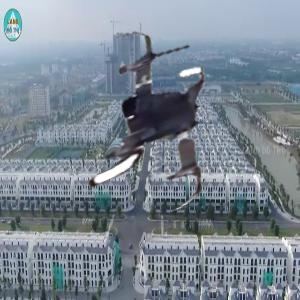drone: (40, 26, 239, 225)
